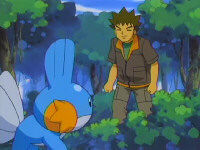mudkip: (1, 35, 93, 149)
